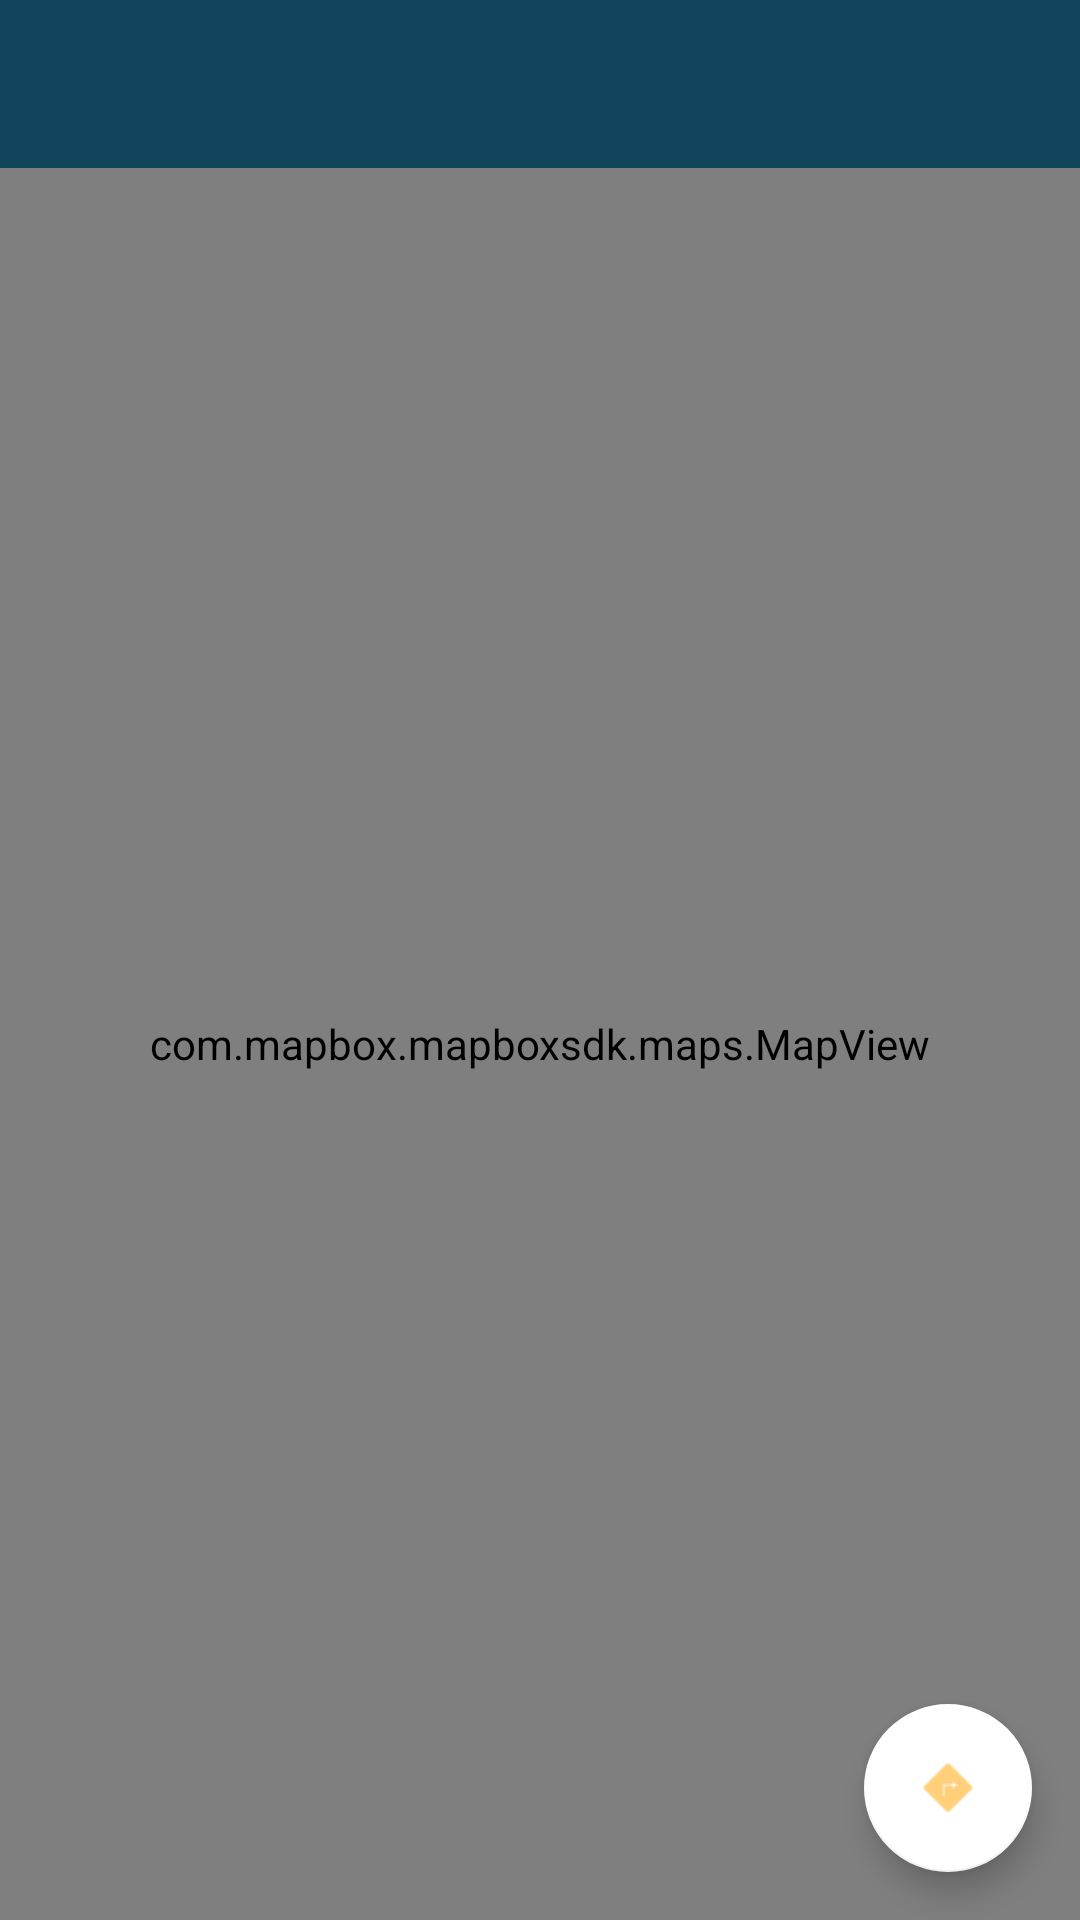

Locate icon controls on the screen. Image size 1080px×1920px, boxes as (left=x1, top=y1, right=x2, bottom=y2).
directions: (left=864, top=1704, right=1032, bottom=1872)
